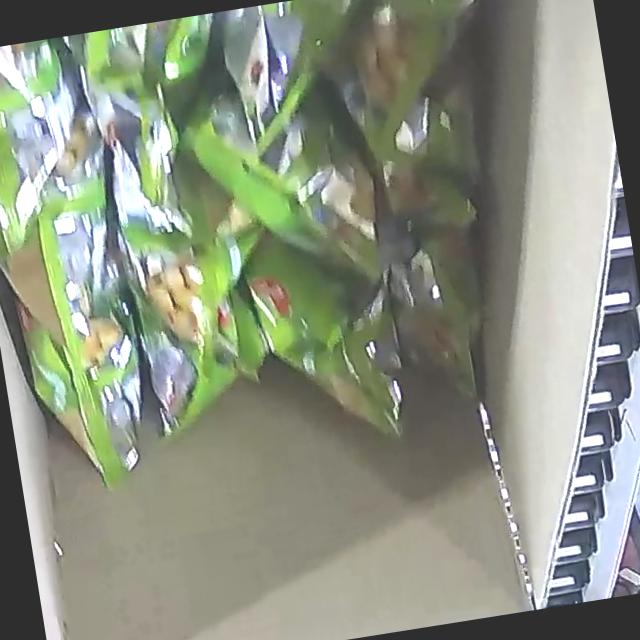yogurt: (0, 0, 578, 508)
